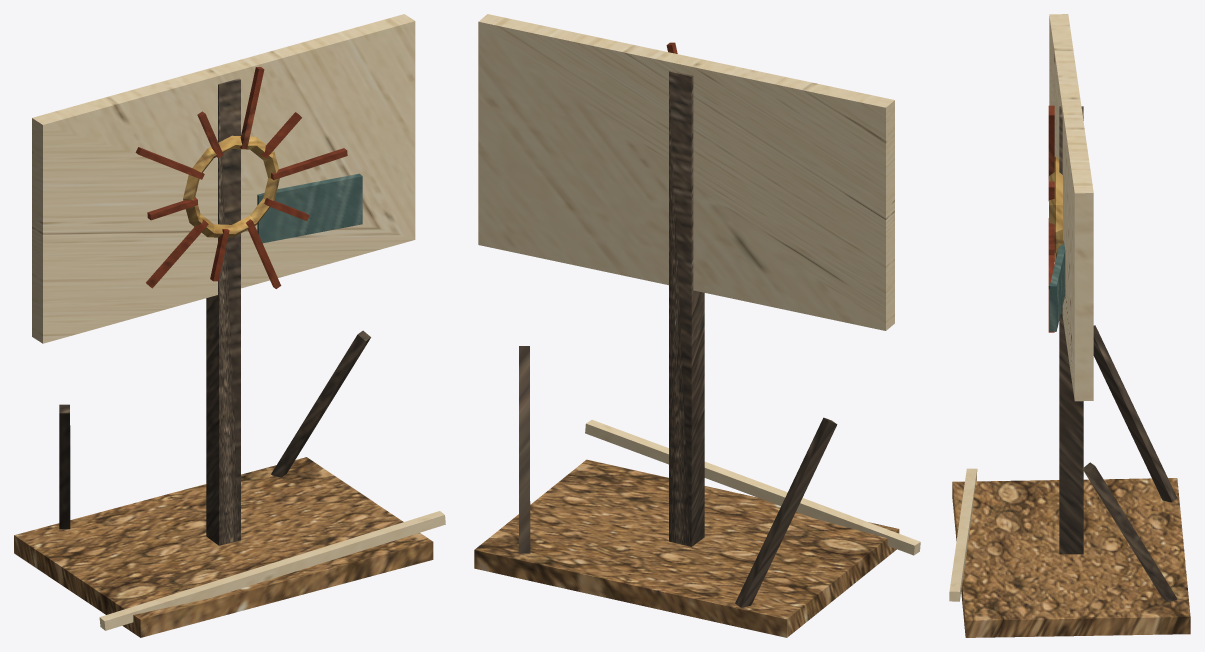
Rendered from east-starburst-billboard.glb.
3 views of the same model, side by side, from view 1: azimuth 30°, elevation 25°; view 2: azimuth 150°, elevation 25°; view 3: azimuth 270°, elevation 25° (orthographic). The views are drawn at different scales.
Parts seen in each view (by area): view 1: east-starburst-billboard; view 2: east-starburst-billboard; view 3: east-starburst-billboard.
Boxes of the visible parts, box(x1,y1,x2,y2) form: east-starburst-billboard: box(14, 14, 445, 637); east-starburst-billboard: box(474, 14, 920, 637); east-starburst-billboard: box(949, 14, 1190, 637).
Bounding box in the file's own units: 4.9 × 5.94 × 2.79.
Materials: 1 (1 with a texture image).
